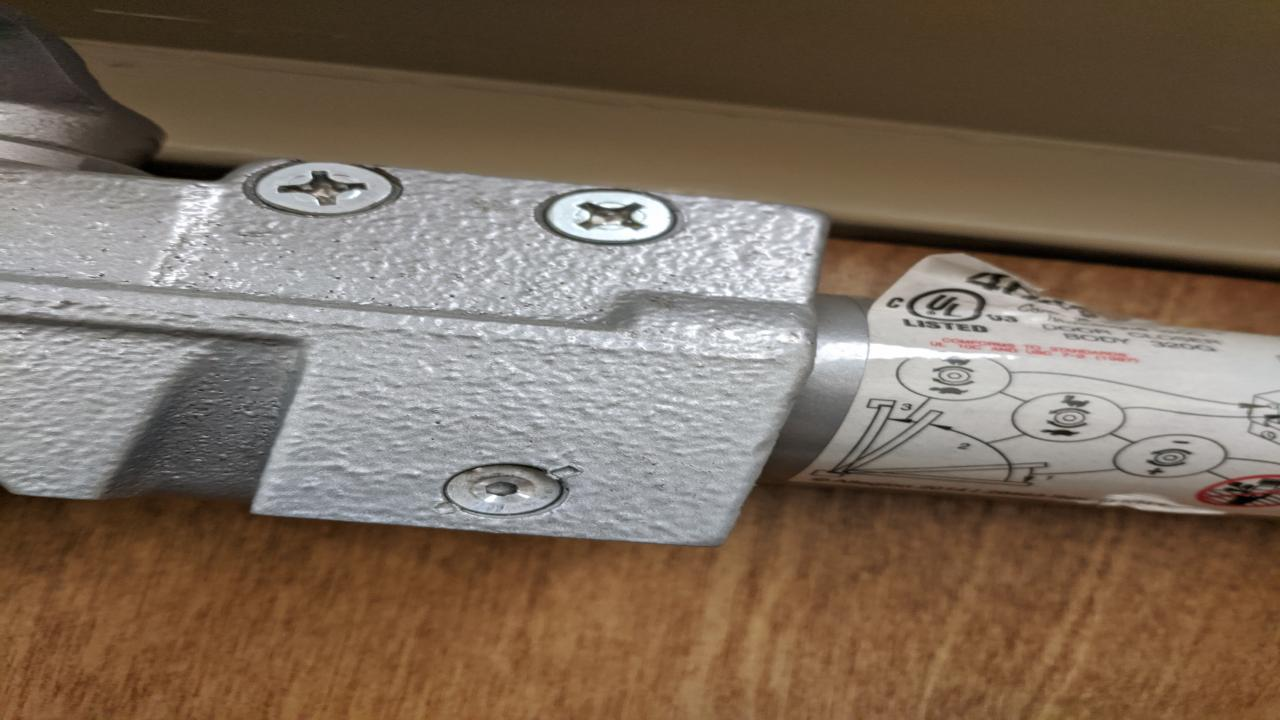CRS: (247, 159, 399, 215), (540, 188, 677, 242)
